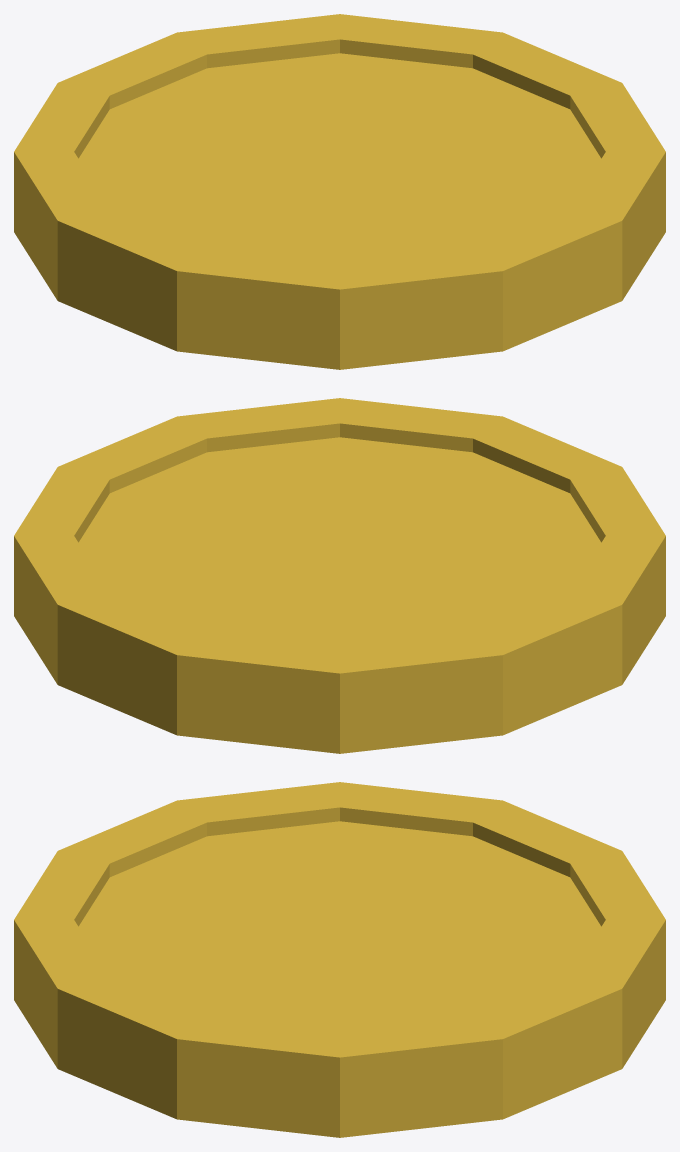
The model's file is Moneda.fbx.
3 renders of one model, top to bottom at view 1: azimuth 30°, elevation 25°; view 2: azimuth 150°, elevation 25°; view 3: azimuth 270°, elevation 25°, orthographic.
Parts seen in each view (by area): view 1: Cylinder.001; view 2: Cylinder.001; view 3: Cylinder.001.
Part boxes in pixels (box(x1,y1,x2,y2)): Cylinder.001: box(14, 14, 665, 369); Cylinder.001: box(14, 398, 665, 753); Cylinder.001: box(14, 782, 665, 1137).
Size of the model in its own units: 5.28 by 5.28 by 0.7175.
